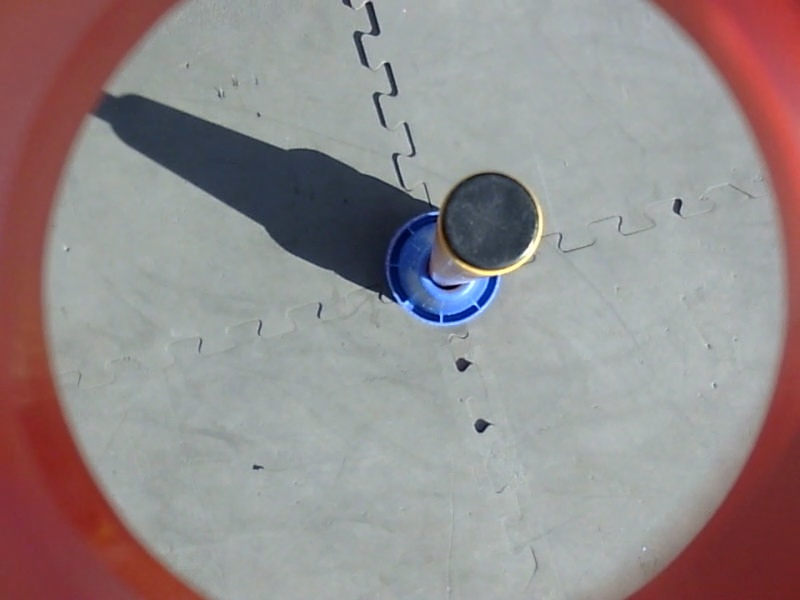tip: (432, 168, 549, 280)
